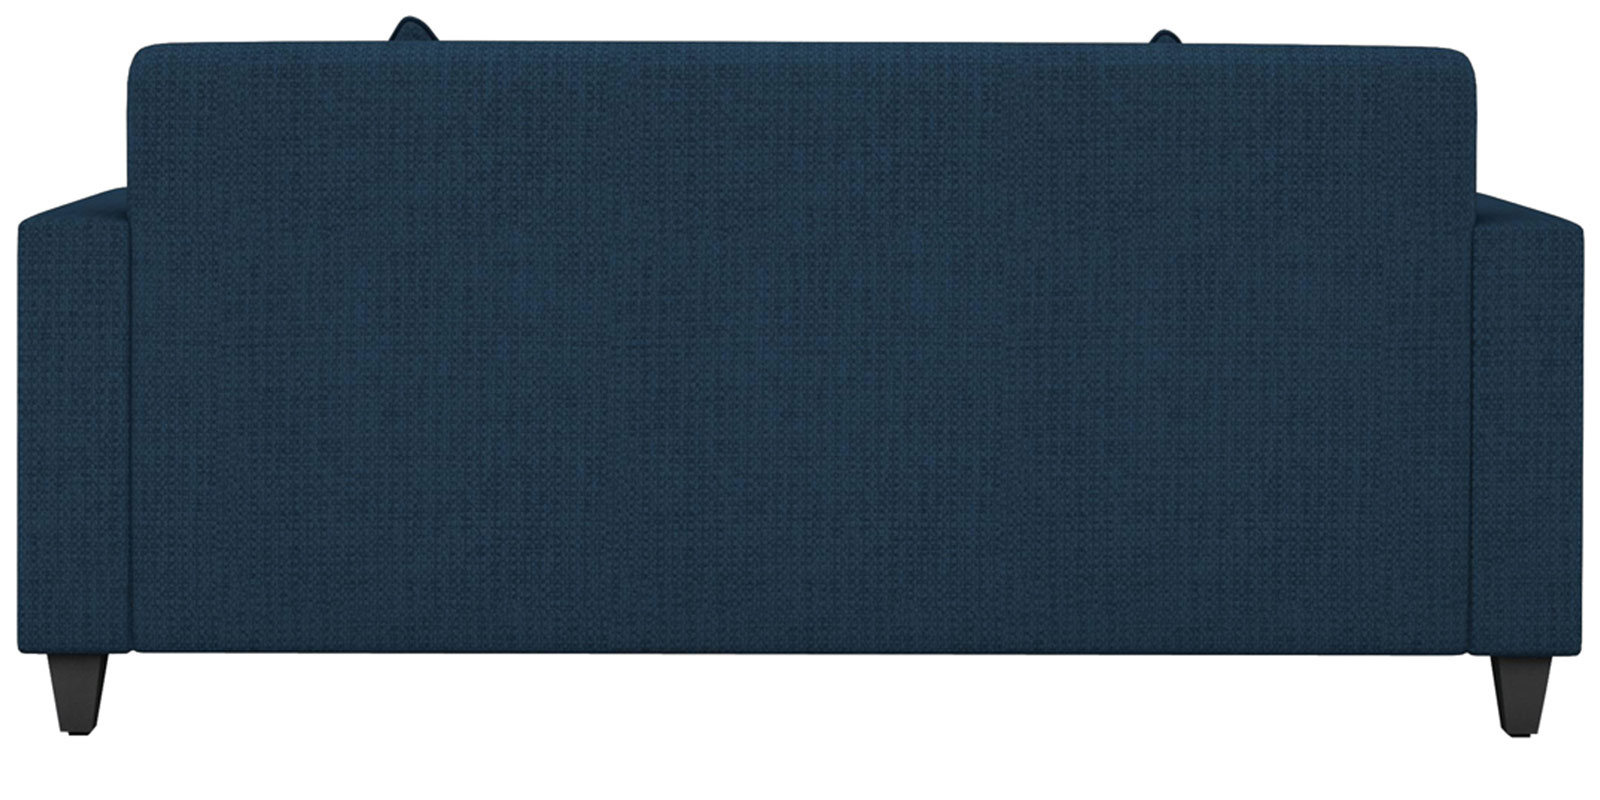Cooper Three Seater Sofa in Royal Blue Colour by ARRA: (14, 14, 1600, 684)
